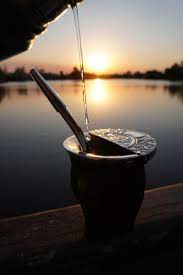madera: (59, 122, 157, 235)
mate: (61, 124, 159, 237)
